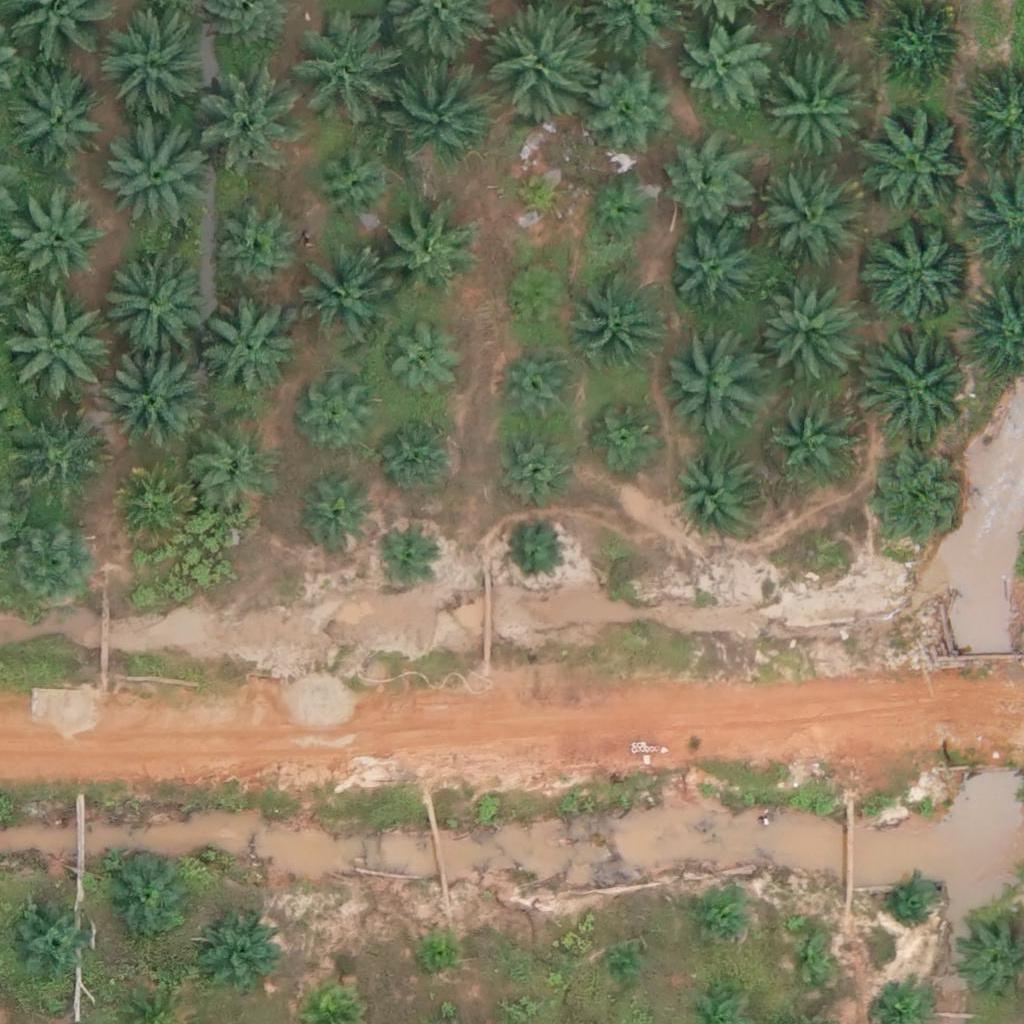Kelapa_Sawit: (94, 116, 207, 230), (860, 105, 973, 218), (864, 216, 977, 329), (99, 343, 212, 456), (91, 247, 204, 360), (380, 51, 492, 165), (97, 12, 209, 126), (863, 328, 975, 441), (481, 6, 593, 119), (191, 57, 303, 170), (866, 455, 966, 556), (763, 62, 863, 163), (758, 174, 858, 275), (754, 282, 854, 383), (582, 55, 682, 156), (374, 203, 474, 304), (288, 252, 388, 353), (288, 24, 388, 125), (198, 300, 298, 401), (4, 68, 104, 169), (6, 405, 106, 506), (573, 269, 673, 370), (665, 334, 765, 434), (4, 897, 92, 985), (662, 142, 750, 230), (487, 425, 575, 513), (106, 463, 194, 551), (309, 141, 397, 229), (16, 201, 104, 289), (665, 229, 752, 318), (105, 853, 192, 941), (772, 400, 859, 488), (674, 449, 761, 537), (680, 22, 767, 110), (497, 344, 584, 432), (214, 210, 301, 298), (191, 430, 278, 518), (7, 522, 94, 610), (201, 921, 276, 997), (380, 327, 455, 403), (382, 415, 457, 491), (581, 175, 656, 251), (500, 262, 575, 338), (588, 397, 663, 472), (300, 382, 375, 457), (298, 482, 373, 557), (371, 523, 434, 586), (504, 519, 566, 582), (507, 163, 569, 226), (883, 873, 933, 923), (786, 936, 836, 986), (694, 890, 744, 940), (603, 951, 641, 989), (417, 935, 454, 973)
